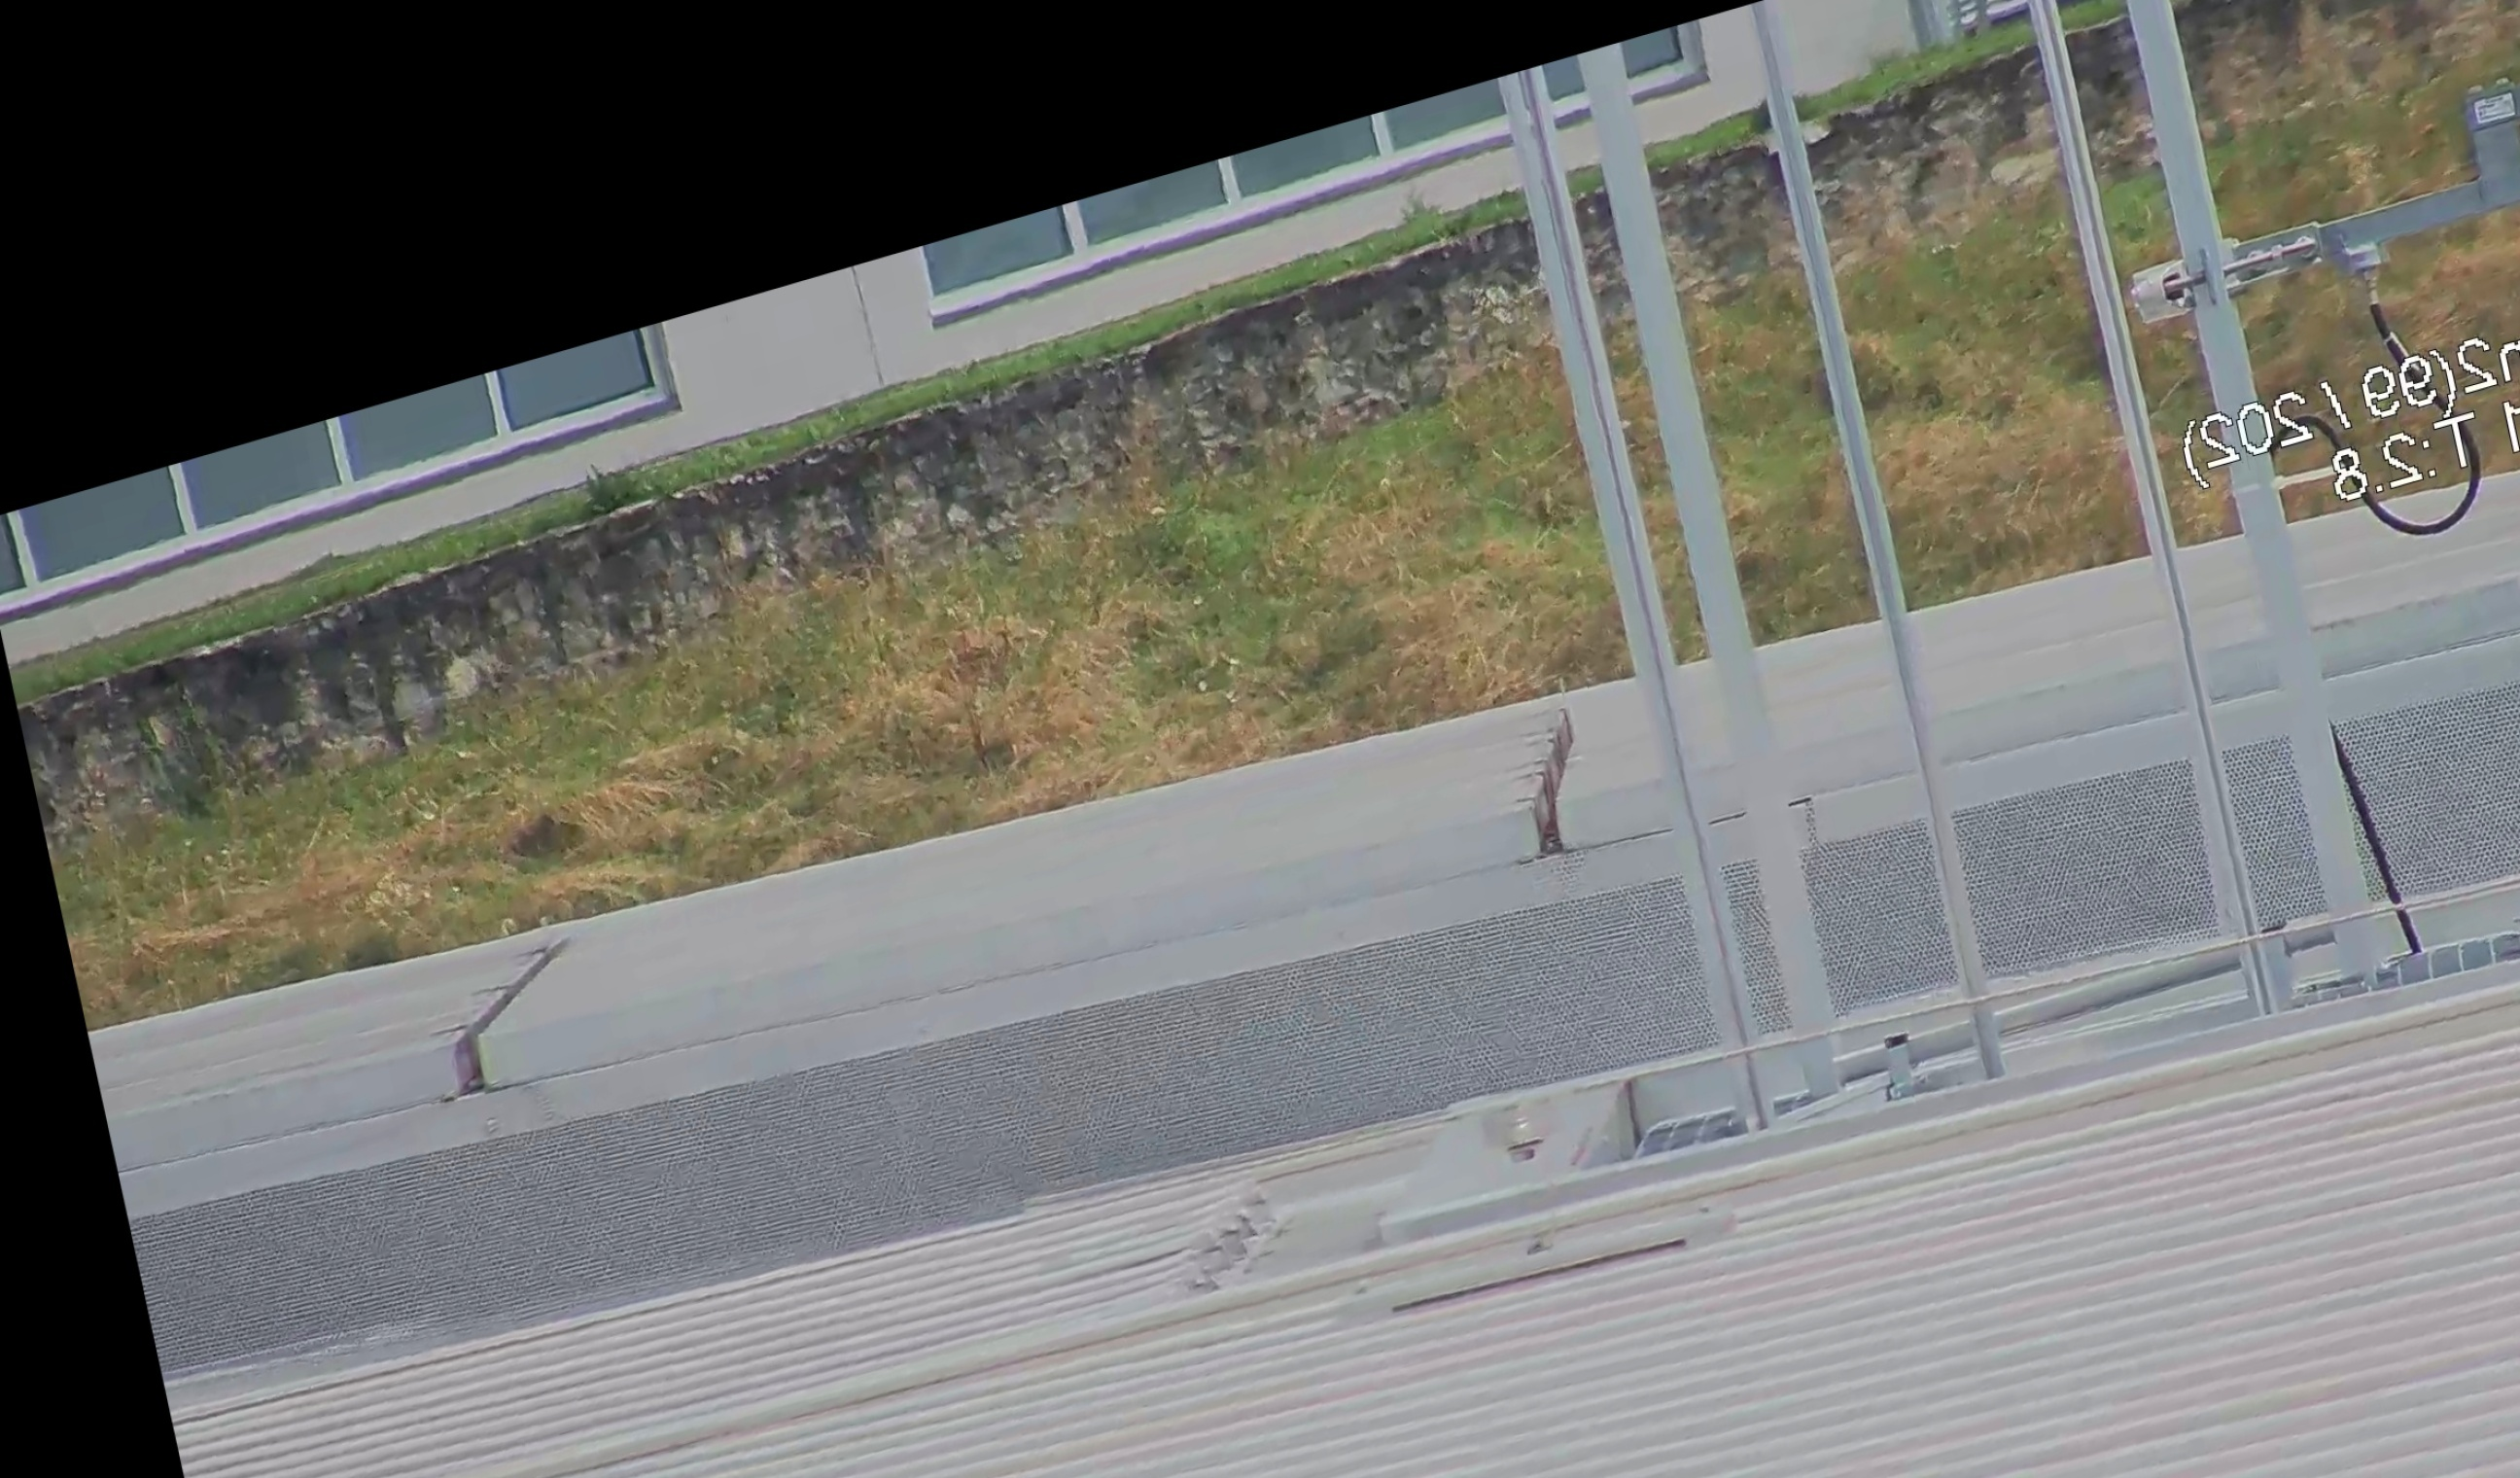Other: (1472, 676, 1623, 873)
